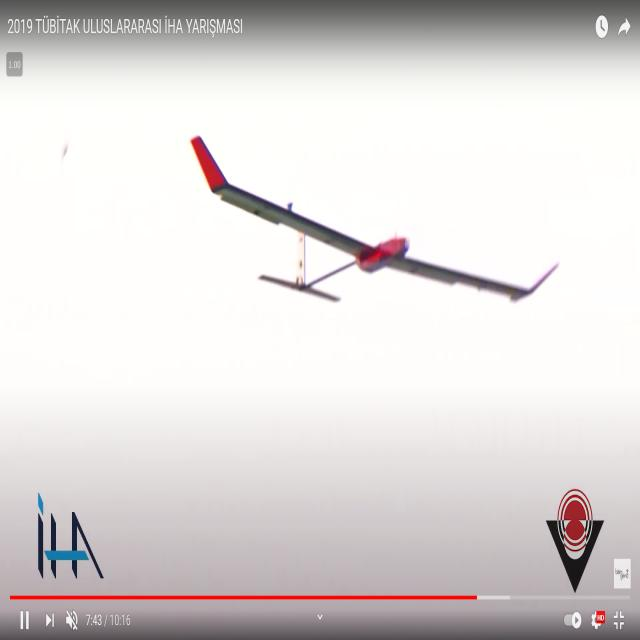iha: (188, 132, 559, 307)
